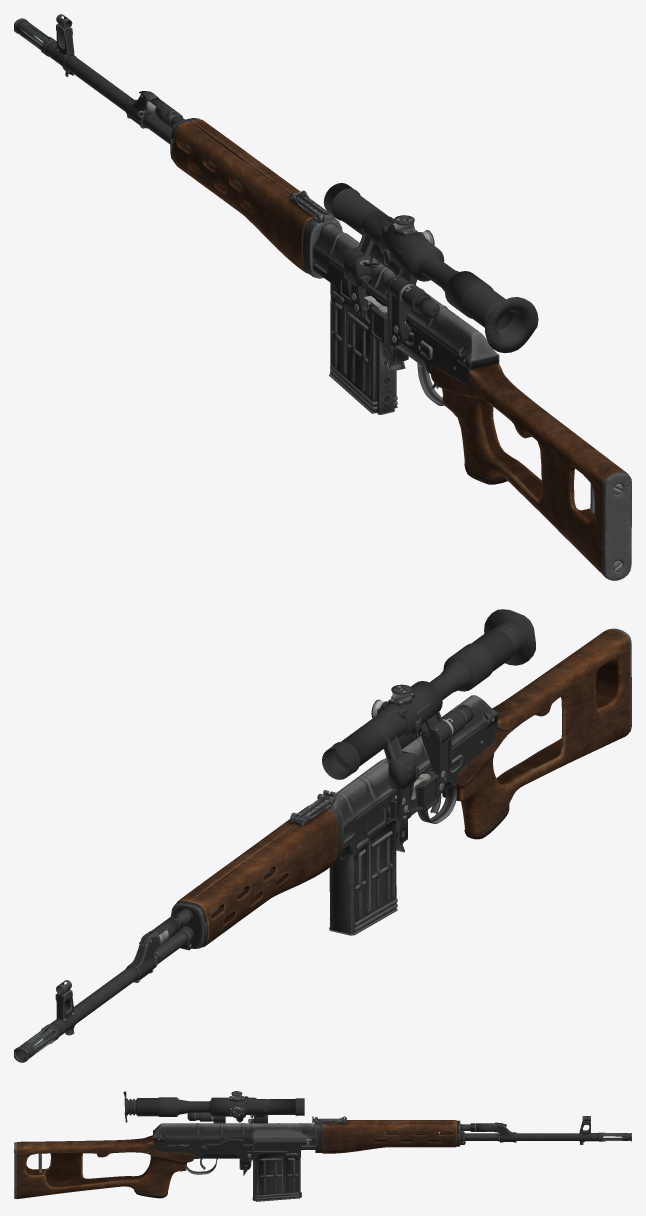
File: svd.glb
3 renders of one model, top to bottom at view 1: azimuth 30°, elevation 25°; view 2: azimuth 150°, elevation 25°; view 3: azimuth 270°, elevation 25°, orthographic. The views are drawn at different scales.
Visible parts, largest first — view 1: svd_body, mag; view 2: svd_body, mag; view 3: svd_body, mag.
Boxes of the visible parts, <box> form: svd_body: <box>14,14,631,580</box>; mag: <box>329,283,397,414</box>; svd_body: <box>14,609,631,1062</box>; mag: <box>329,820,397,935</box>; svd_body: <box>14,1091,631,1198</box>; mag: <box>252,1150,301,1201</box>.
Bounding box in the file's own units: 0.0756 × 0.2334 × 1.23.
1 material, 1 textured.
